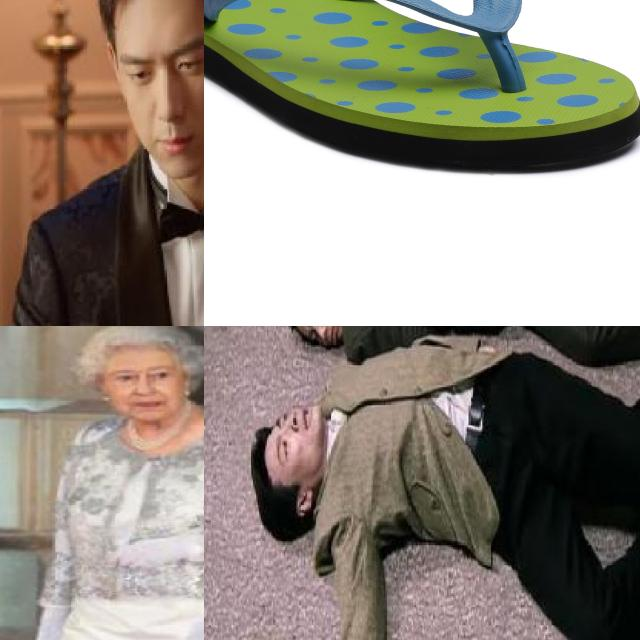No_Glasses: (111, 37, 204, 93)
Sandals: (204, 0, 640, 175)
face_nomask: (110, 0, 204, 166), (258, 395, 328, 473), (112, 358, 184, 413), (296, 326, 353, 353)
hand_glove: (106, 536, 204, 570), (30, 615, 72, 640)
head_nohelmet: (87, 326, 204, 365), (236, 426, 290, 506)
person: (223, 362, 640, 627), (0, 0, 204, 326), (26, 326, 204, 640)
